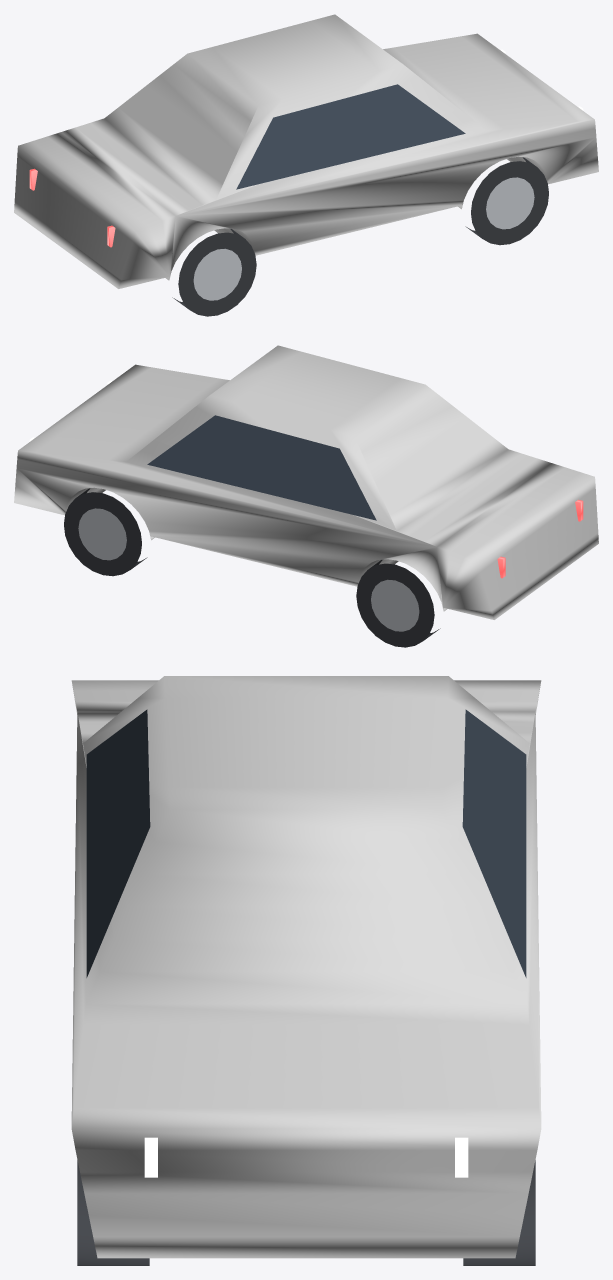
Rendered from zarya965.glb.
The picture shows the model from 3 angles, top to bottom: view 1: azimuth 30°, elevation 25°; view 2: azimuth 150°, elevation 25°; view 3: azimuth 270°, elevation 25°; orthographic projection. The views are drawn at different scales.
Visible parts, largest first — view 1: Car; view 2: Car; view 3: Car.
Boxes of the visible parts, left/top/right/bottom form: Car: left=14, top=14, right=598, bottom=316; Car: left=14, top=345, right=598, bottom=647; Car: left=71, top=676, right=541, bottom=1265.
Bounding box in the file's own units: 3.68 × 1.34 × 1.56.
